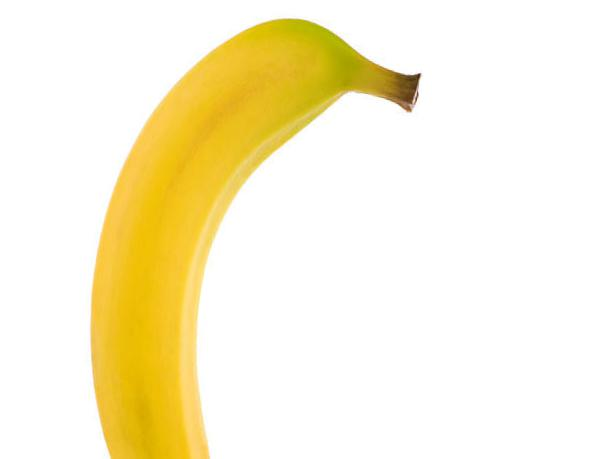banana: (88, 17, 421, 458)
